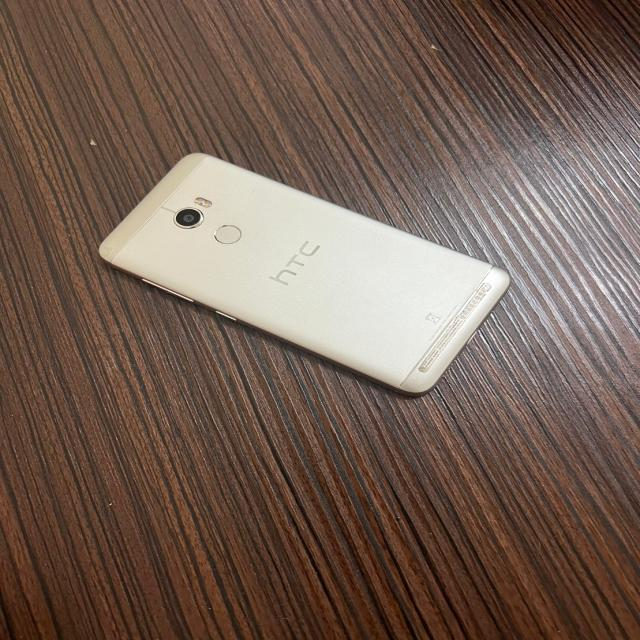Smartphone: (74, 136, 538, 421)
